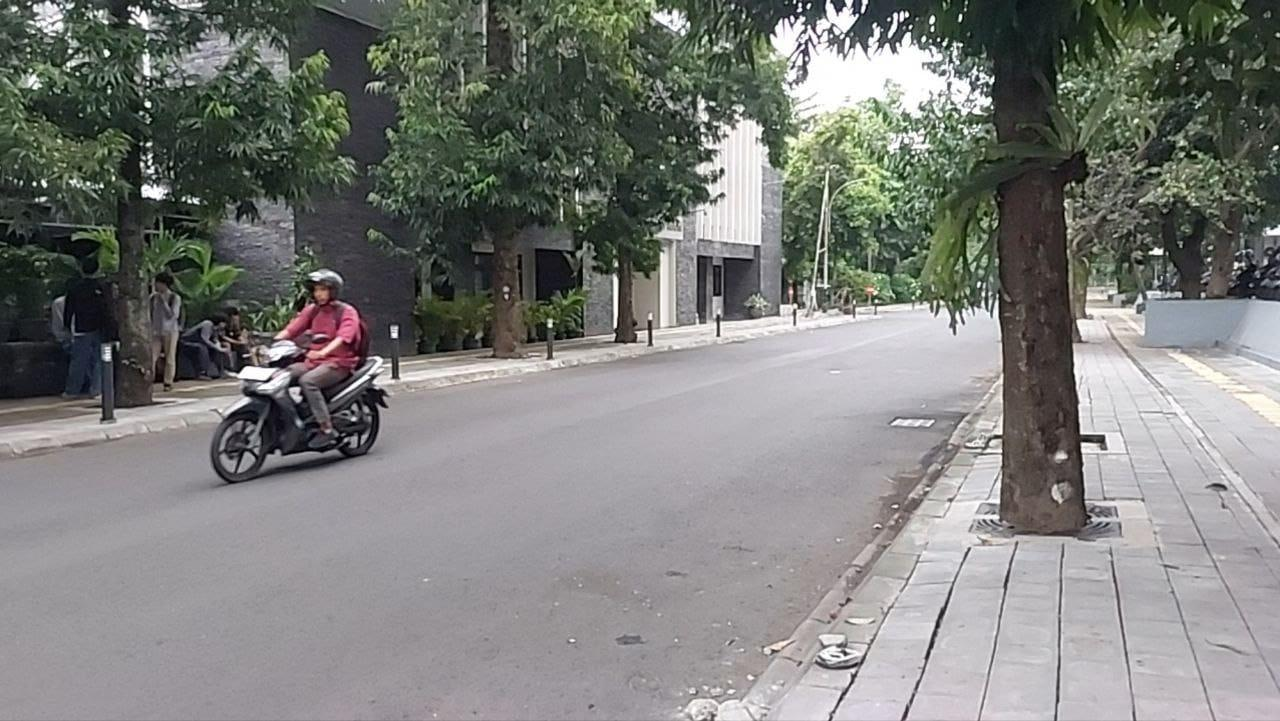helm: (302, 267, 345, 308)
riding: (209, 266, 392, 483)
